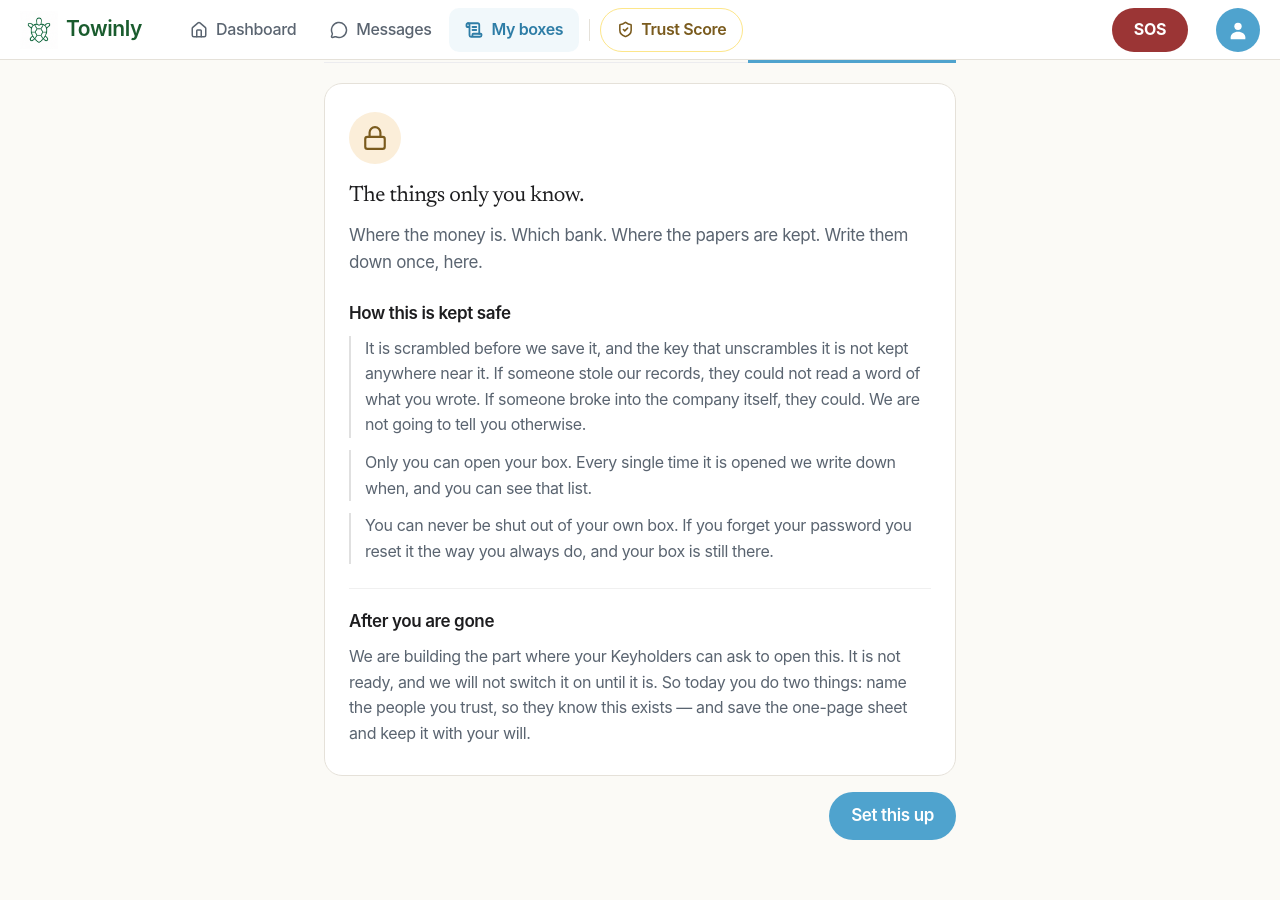
Scenario: setting the Sealed box up › will not move past the first step until three people are picked
This screenshot has width=1280, height=900.
(page scrolled)
Check: the heading "The things only you know." is shown, box x1=349 y1=185 x2=584 y2=207
Click the button "Set this up": (893, 816) x1=829 y1=792 x2=956 y2=840
(page scrolled)
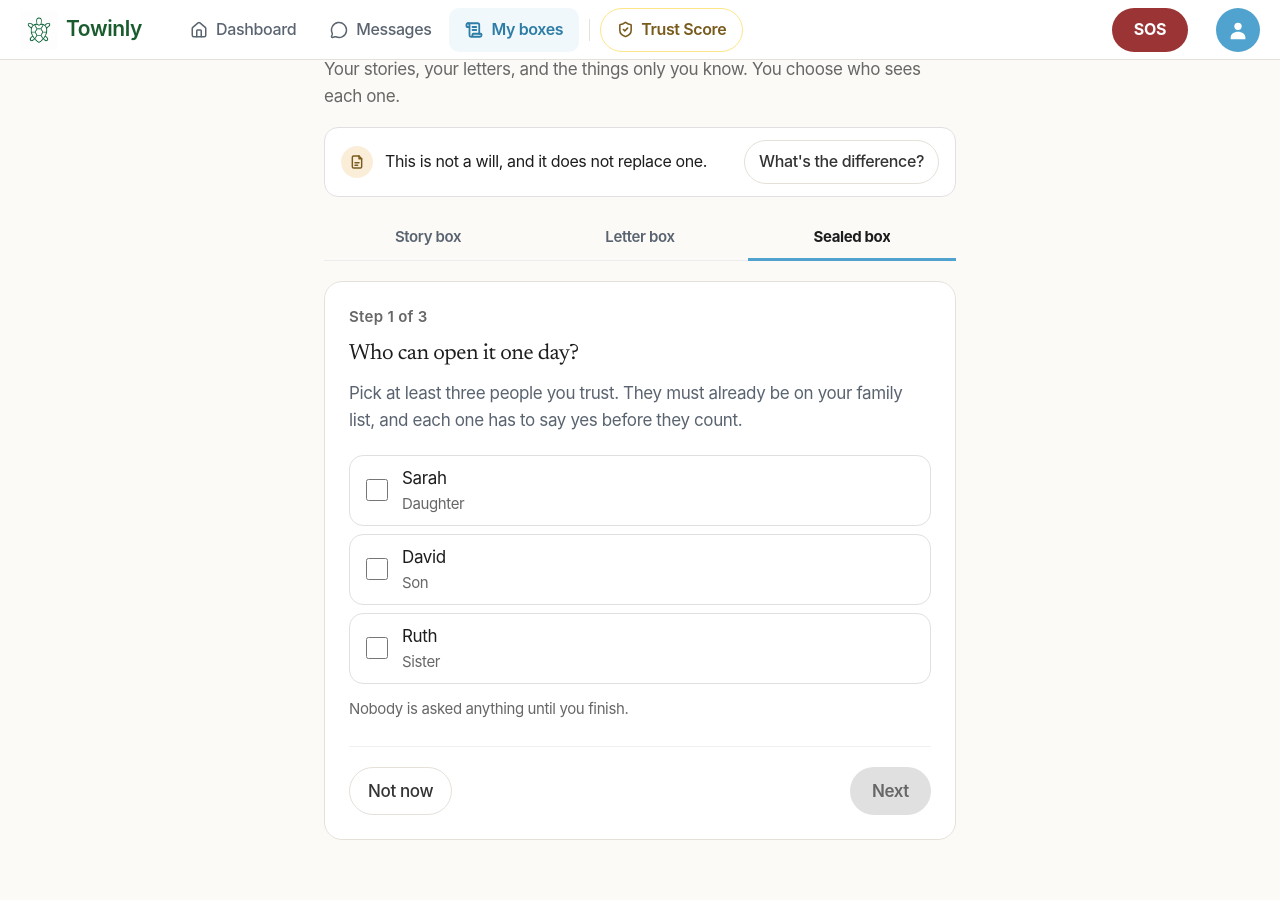
Check: the heading "Who can open it one day?" is shown, box x1=349 y1=343 x2=579 y2=365
Click the checkbox labelled "Sarah Daughter": (377, 490) x1=366 y1=479 x2=388 y2=501
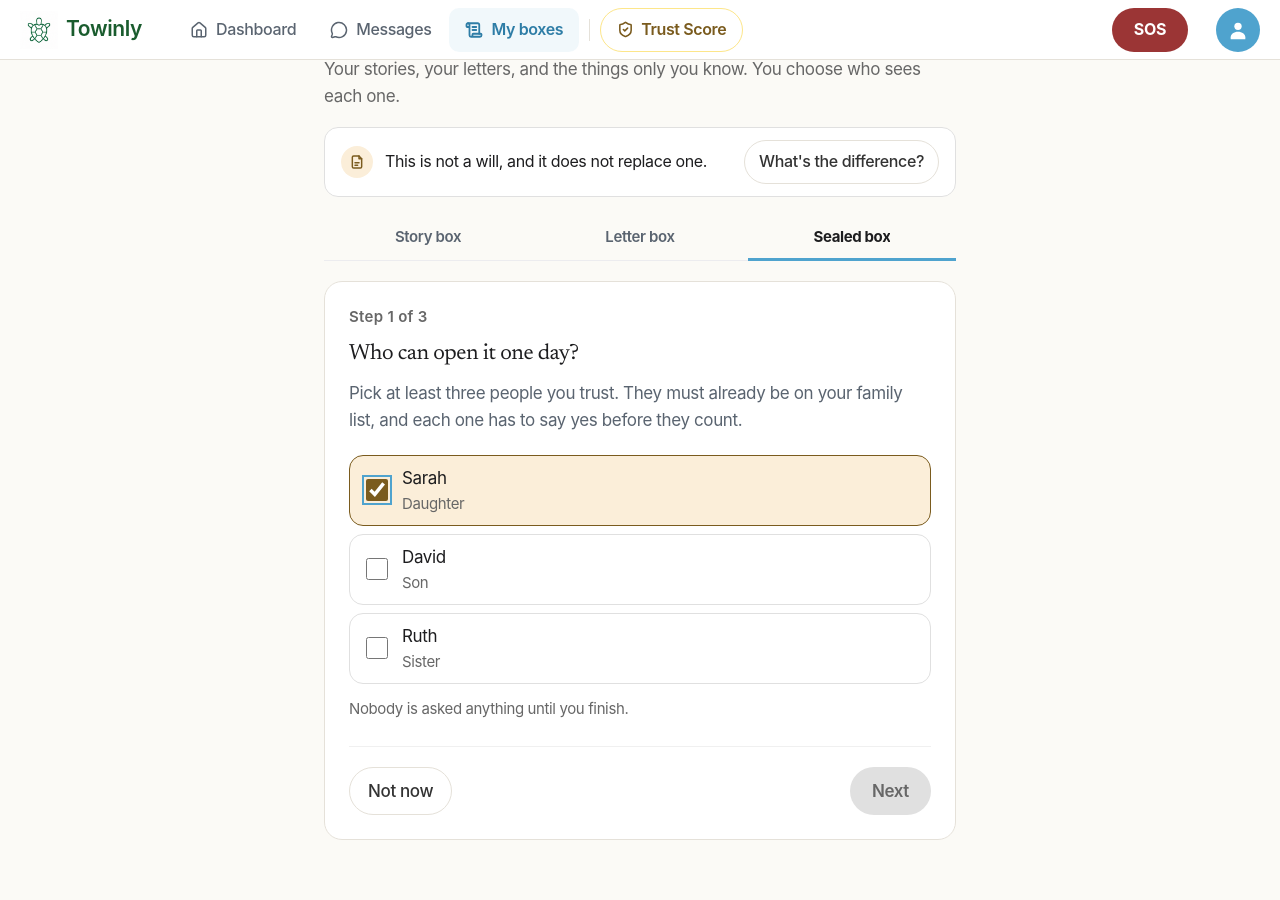
Click the checkbox labelled "David Son": (377, 569) x1=366 y1=558 x2=388 y2=580
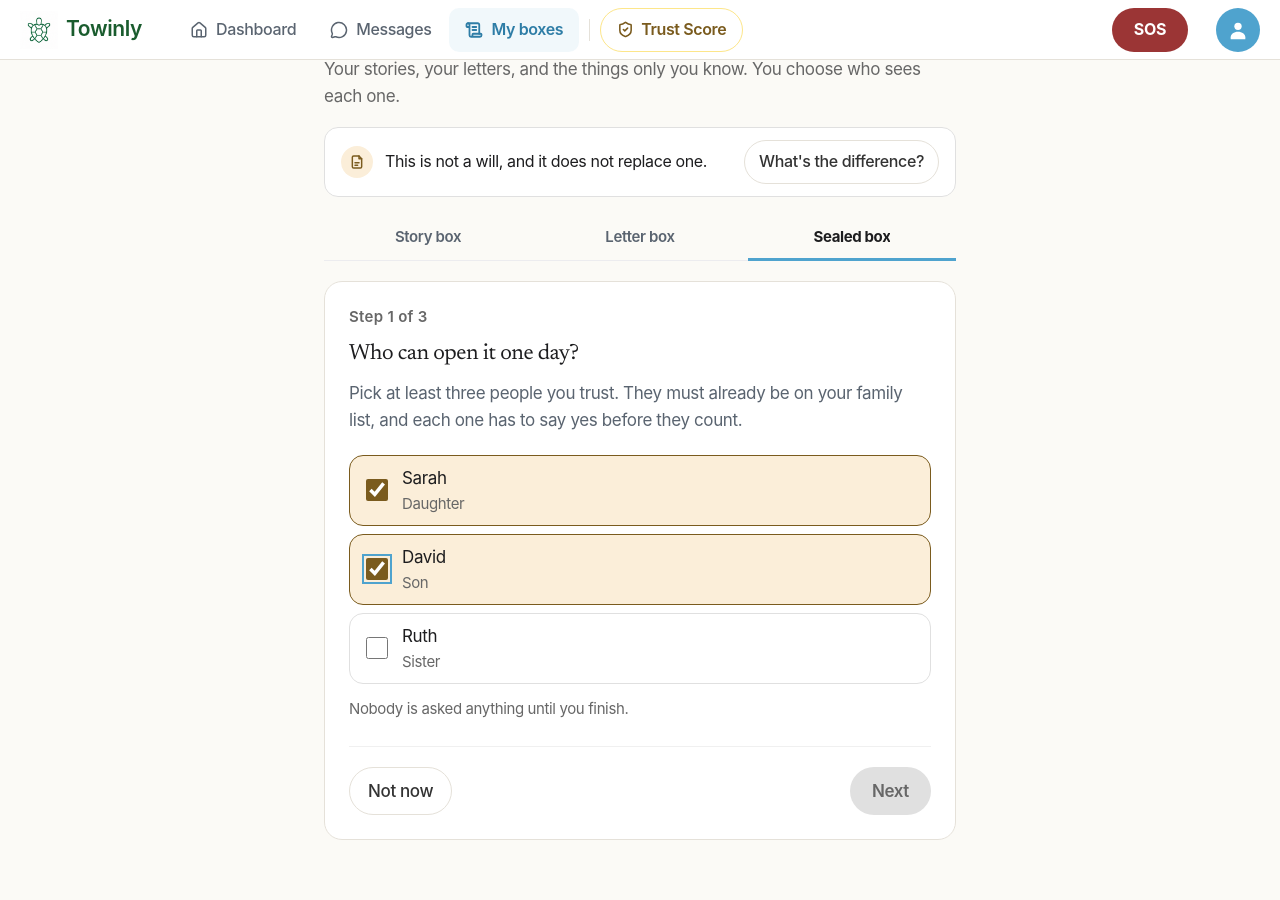
Check: the button "Next" is disabled, box x1=850 y1=767 x2=931 y2=815
Click the checkbox labelled "Ruth Sister": (377, 648) x1=366 y1=637 x2=388 y2=659
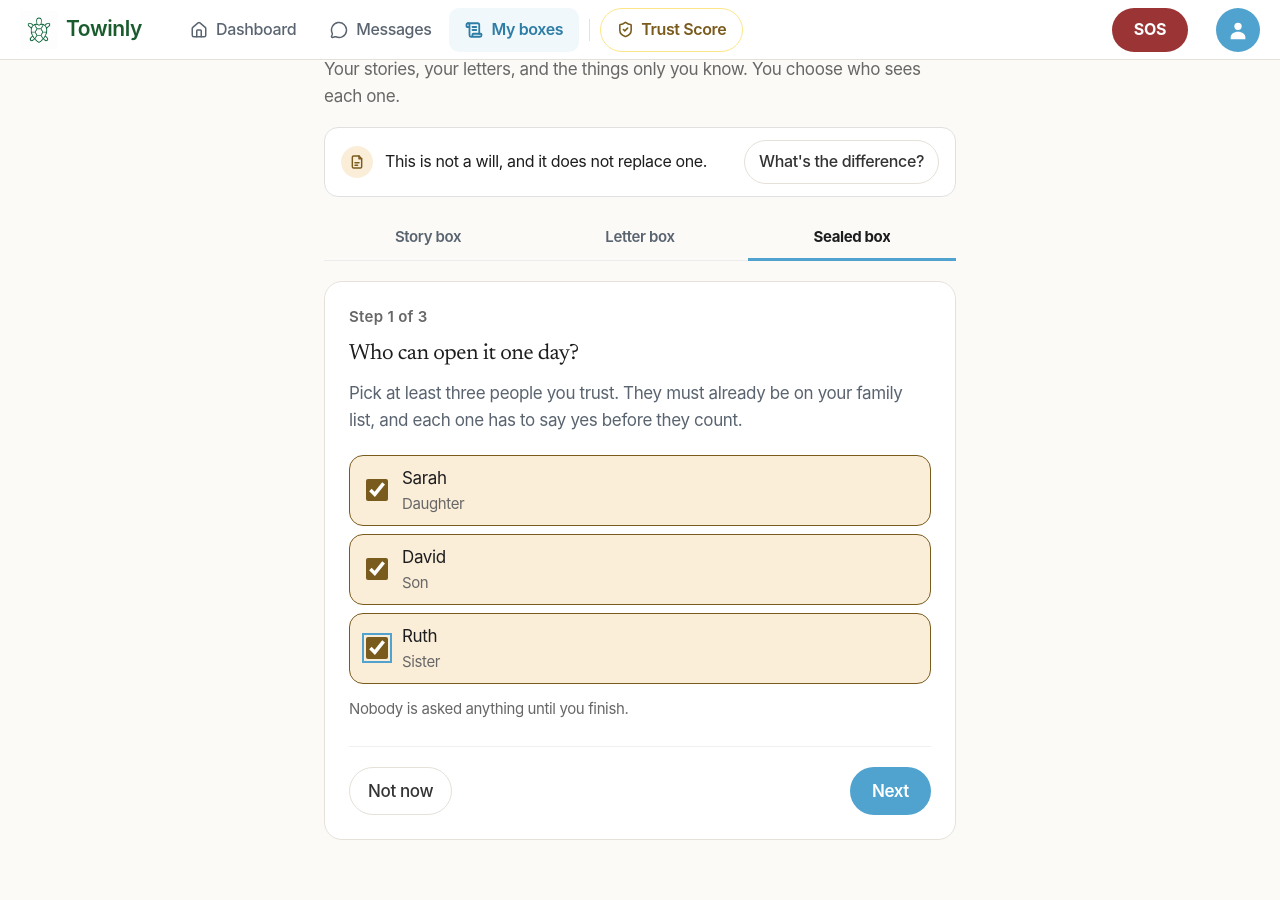
Check: the button "Next" is enabled, box x1=850 y1=767 x2=931 y2=815
